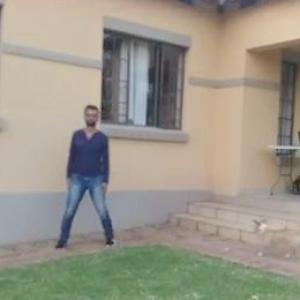follow: (80, 101, 126, 254)
